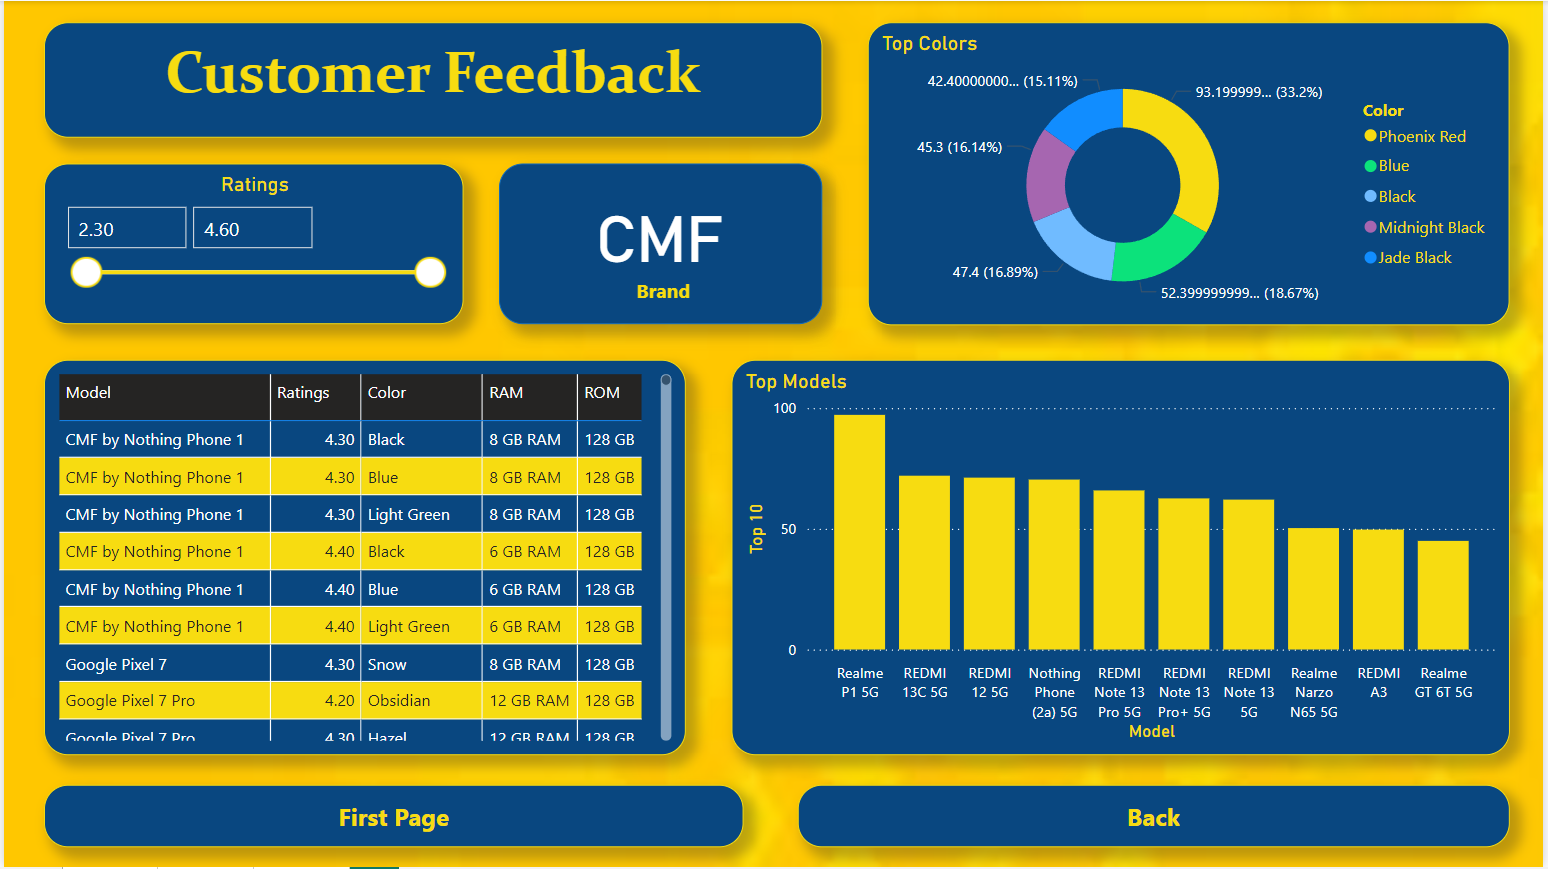

The dashboard page shown, as its layout file describes it:
{"tool":"powerbi","page":{"name":"Page 3","canvas":[1280,720],"ordinal":2},"visuals":[{"type":"textbox","box":[33.4,18.1,647,96],"z":4000},{"type":"clusteredColumnChart","title":"Top Models","fields":{"Category":["Flipkart_data_phones.Model"],"Y":["Sum(Flipkart_data_phones.Ratings)"]},"box":[605.1,298.2,647.3,328.7],"z":5000},{"type":"donutChart","title":"Top Colors","fields":{"Y":["Sum(Flipkart_data_phones.Ratings)"],"Category":["Flipkart_data_phones.Color"]},"box":[718.5,17.5,533.8,251.6],"z":6000},{"type":"tableEx","fields":{"Values":["Flipkart_data_phones.Model","Flipkart_data_phones.Ratings","Flipkart_data_phones.Color","Flipkart_data_phones.RAM","Flipkart_data_phones.ROM"]},"box":[33.5,298.2,533.8,328.7],"z":7000},{"type":"slicer","title":"Ratings","fields":{"Values":["Flipkart_data_phones.Ratings"]},"box":[33.5,135.3,349.1,133.8],"z":8000},{"type":"actionButton","box":[33.5,651.6,581.8,52.4],"z":9000},{"type":"actionButton","box":[660.4,651.6,592,52.4],"z":10000},{"type":"actionButton","box":[0,0,100,40],"z":11000},{"type":"card","fields":{"Values":["Min(Flipkart_data_phones.Brand)"]},"box":[411.6,135.3,269.1,133.8],"z":11001}]}

Visuals, with their boxes in screenshot pixels (x1, y1, x2, y2), scaled from the page's 1280x720 canvas onto the 1548x869 screenshot:
textbox: {"x1": 40, "y1": 22, "x2": 823, "y2": 138}
"Top Models" clusteredColumnChart: {"x1": 732, "y1": 360, "x2": 1515, "y2": 757}
"Top Colors" donutChart: {"x1": 869, "y1": 21, "x2": 1515, "y2": 325}
tableEx - Flipkart_data_phones.Model x Flipkart_data_phones.Ratings: {"x1": 41, "y1": 360, "x2": 686, "y2": 757}
"Ratings" slicer: {"x1": 41, "y1": 163, "x2": 463, "y2": 325}
actionButton: {"x1": 41, "y1": 786, "x2": 744, "y2": 850}
actionButton: {"x1": 799, "y1": 786, "x2": 1515, "y2": 850}
actionButton: {"x1": 0, "y1": 0, "x2": 121, "y2": 48}
card - Min(Flipkart_data_phones.Brand): {"x1": 498, "y1": 163, "x2": 823, "y2": 325}
